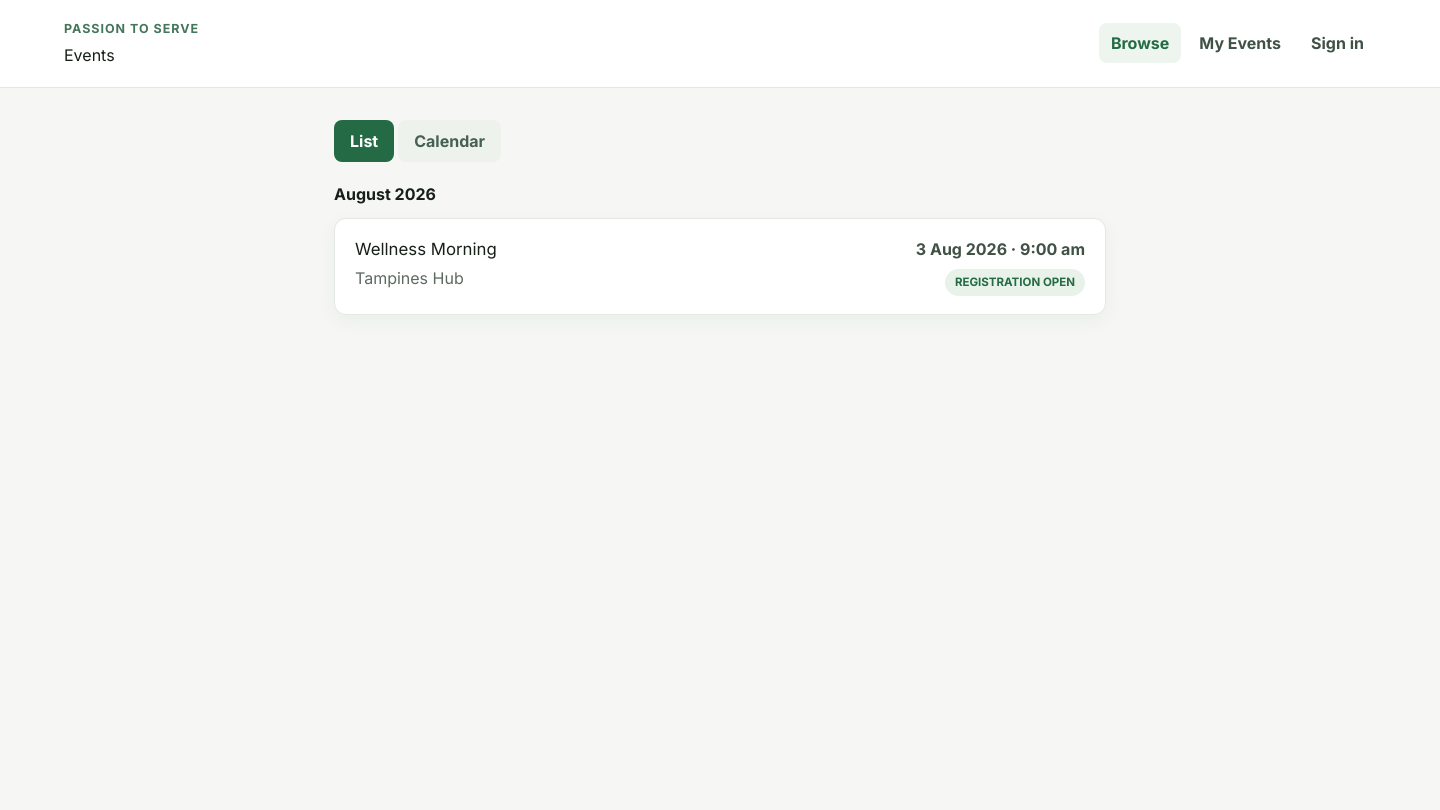
Test: Calendar view › switching back to List view shows the flat list again
Expected: the heading "Wellness Morning" is shown, [355,237,497,262]
Click the tab "Calendar" at (450, 141), box [398,120,501,162]
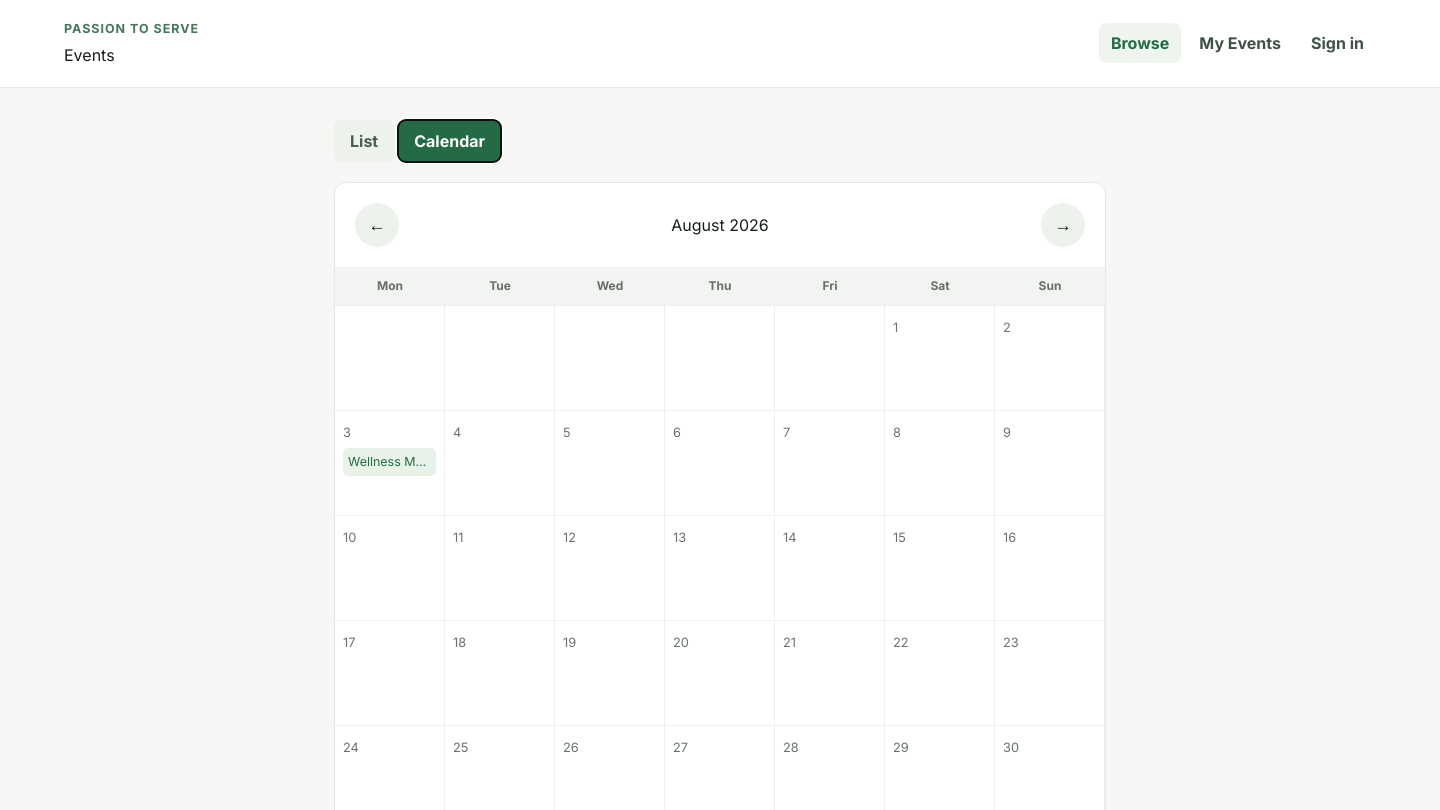
Expected: the link "Registration open" is gone
Click the tab "List" at (364, 141), box [334,120,394,162]
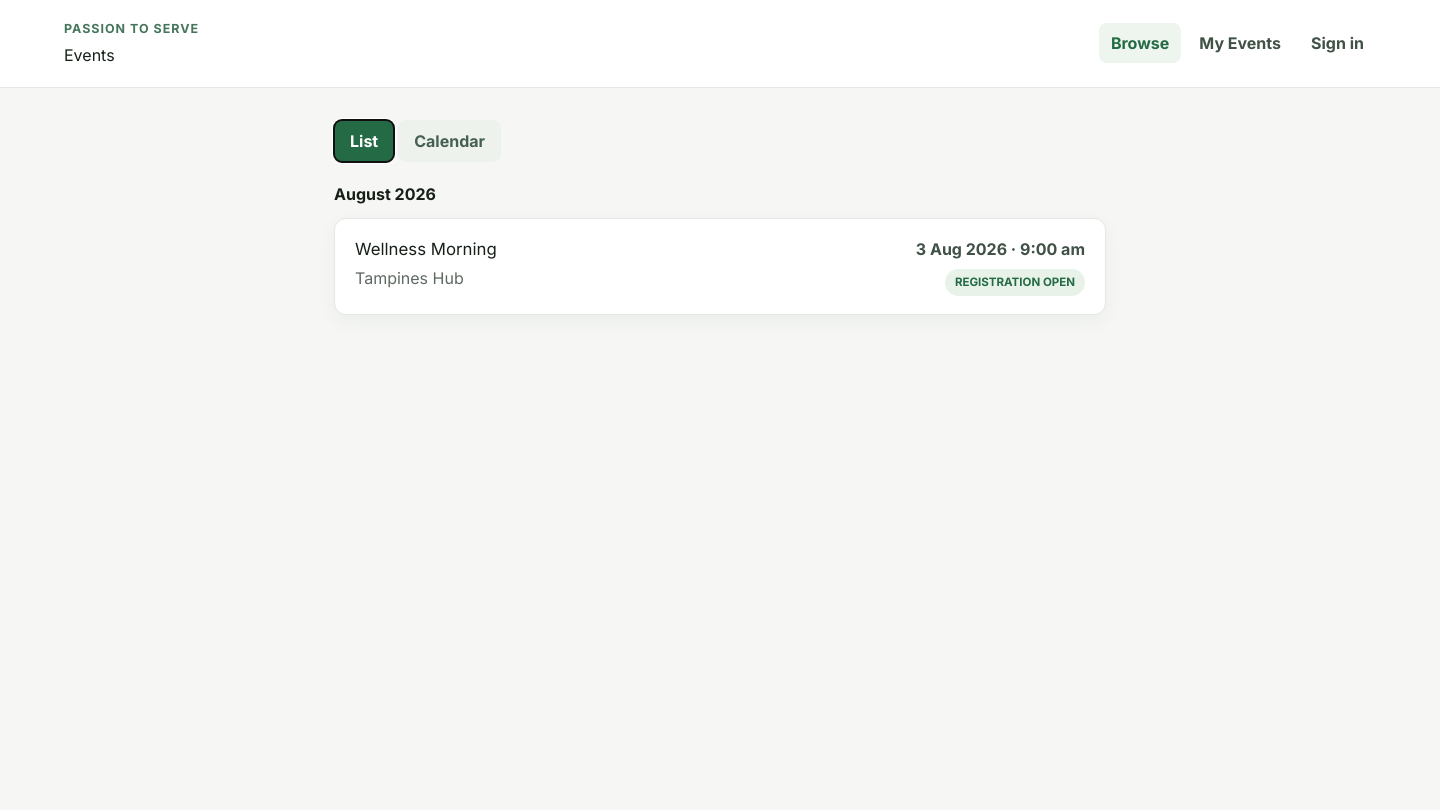
Expected: the text "Registration open" is shown, [945,269,1085,296]
